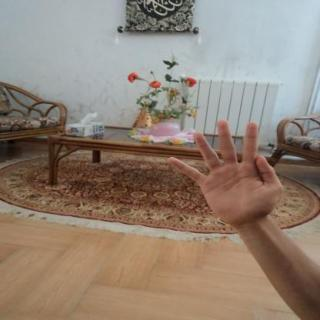SHEEN: (159, 114, 291, 232)
